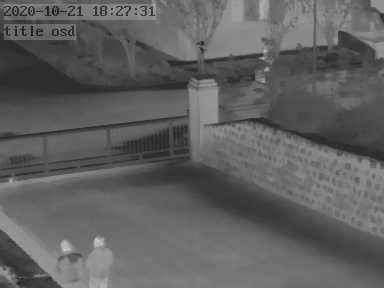person: (85, 231, 113, 288), (58, 238, 86, 288)
